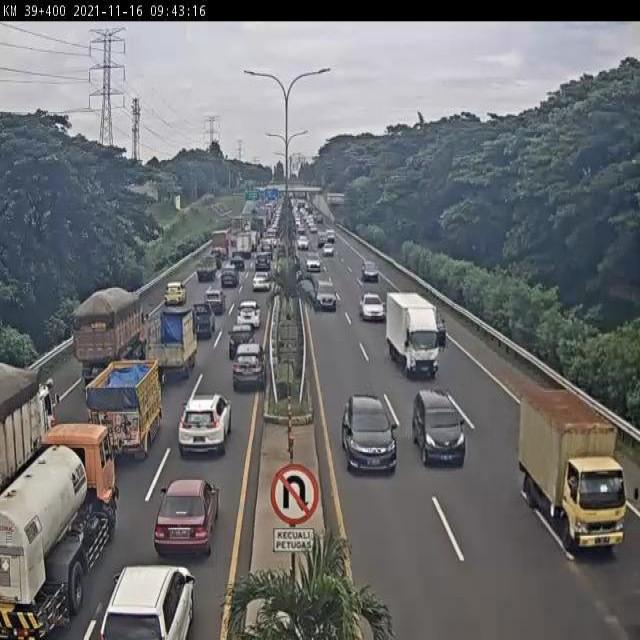car: (102, 565, 193, 640), (409, 387, 473, 472), (339, 393, 402, 478), (155, 480, 218, 557), (175, 398, 232, 466), (230, 346, 265, 398), (314, 274, 338, 318), (359, 288, 386, 325), (186, 306, 213, 342), (228, 323, 254, 357), (237, 304, 260, 331), (196, 256, 218, 284), (161, 280, 185, 305), (204, 288, 225, 315), (360, 257, 380, 284), (219, 267, 239, 288), (250, 275, 269, 297), (254, 259, 271, 280), (306, 252, 321, 275), (227, 256, 243, 275), (260, 242, 273, 262), (320, 239, 335, 256), (205, 254, 217, 274)
small truck: (208, 232, 227, 263), (235, 234, 252, 262)
truck-l-: (70, 290, 148, 394), (0, 359, 61, 484)
truck-m-: (1, 422, 119, 638), (516, 379, 635, 560), (88, 363, 162, 461), (385, 291, 445, 384), (146, 305, 200, 383)
